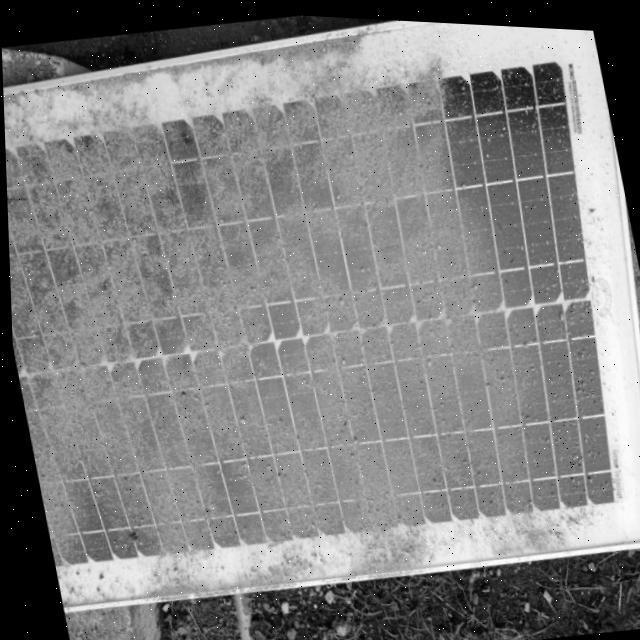Surface Contaminant: (4, 72, 613, 574)
